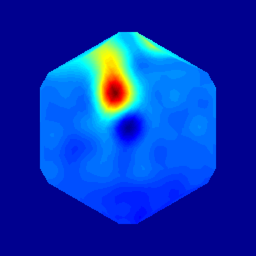ship: (113, 103, 133, 140)
wave: (108, 57, 126, 111)
